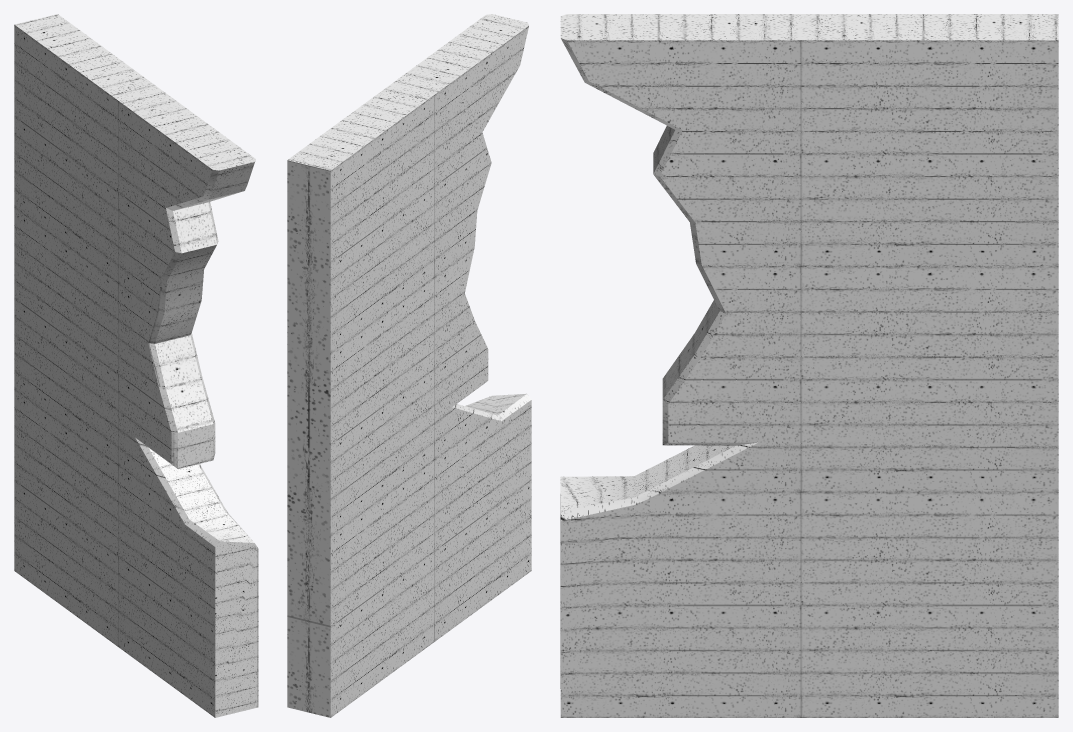
Rendered from Wall_Cardinal_Backing_01_transition.fbx.
3 views of the same model, side by side, from view 1: azimuth 30°, elevation 25°; view 2: azimuth 150°, elevation 25°; view 3: azimuth 270°, elevation 25° (orthographic). The views are drawn at different scales.
Visible parts, largest first — view 1: wall_backing_transition_01; view 2: wall_backing_transition_01; view 3: wall_backing_transition_01.
Part boxes in pixels (x1,y1,x2,y2): wall_backing_transition_01: [14, 14, 258, 717]; wall_backing_transition_01: [287, 14, 531, 717]; wall_backing_transition_01: [560, 14, 1058, 717].
Size of the model in its own units: 0.25 by 3 by 2.
